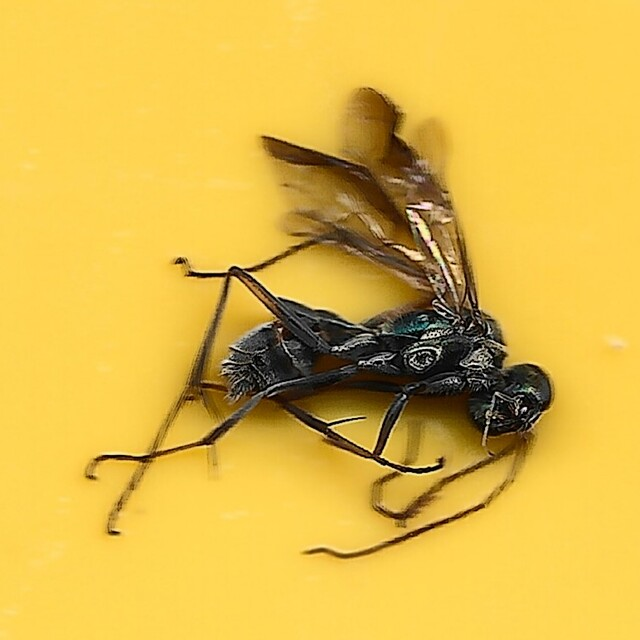Hymenoptera: (83, 80, 557, 560)
